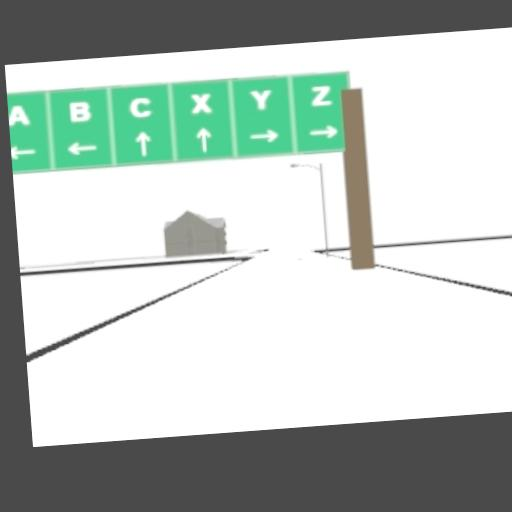A: (8, 104, 29, 125)
B: (68, 101, 91, 123)
C: (129, 97, 150, 118)
Left: (66, 140, 99, 155), (11, 144, 36, 159)
Right: (307, 124, 338, 140), (249, 129, 280, 144)
Straight: (133, 129, 150, 155), (195, 127, 212, 151)
X: (189, 92, 212, 114)
Y: (249, 89, 272, 110)
Z: (309, 84, 332, 106)
